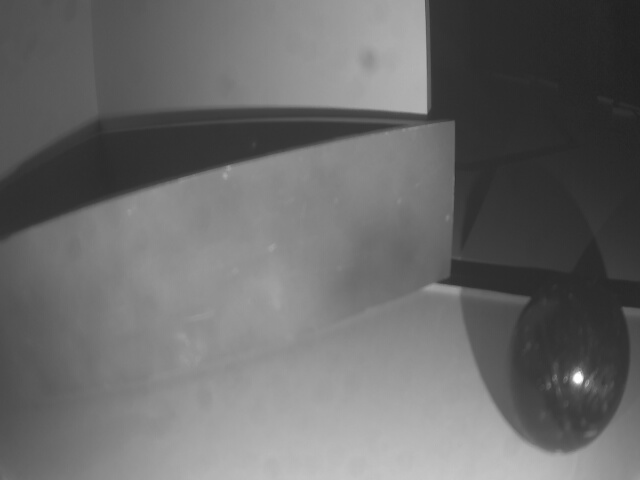Dead: (513, 270, 629, 454)
Green: (0, 120, 455, 422)
